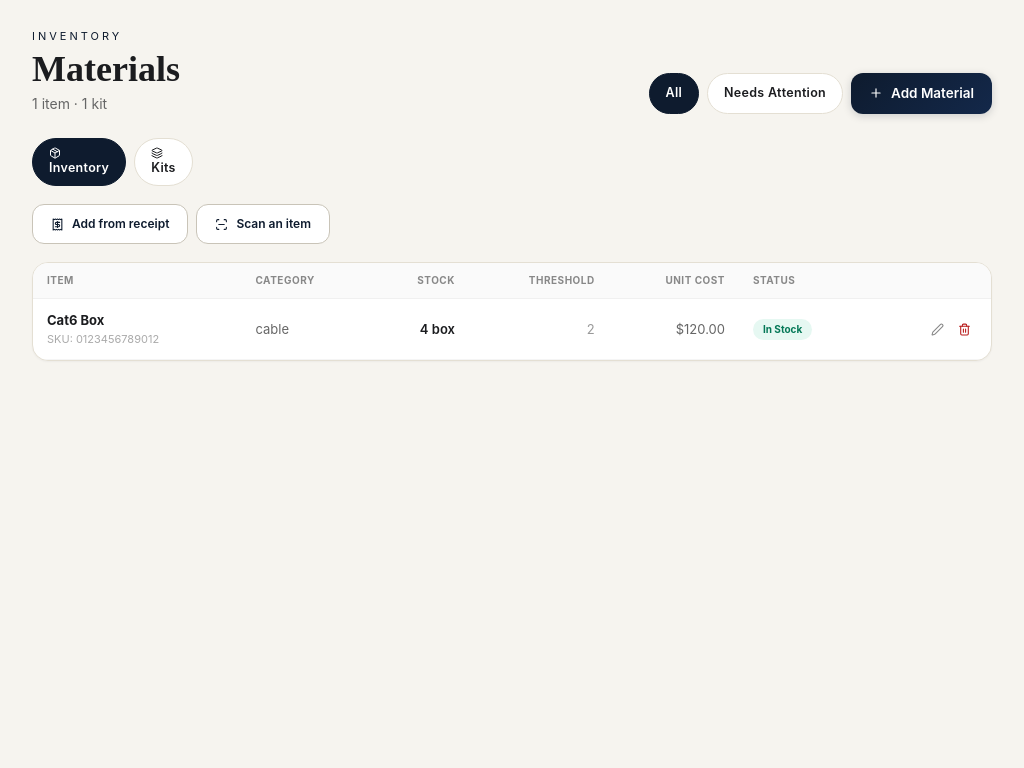
Test: getting a receipt in › accepts a screenshot or a saved PDF, not just the camera
The width and height of the screenshot is (1024, 768).
Click the button "Add from receipt" at (110, 224), box [32,204,188,244]
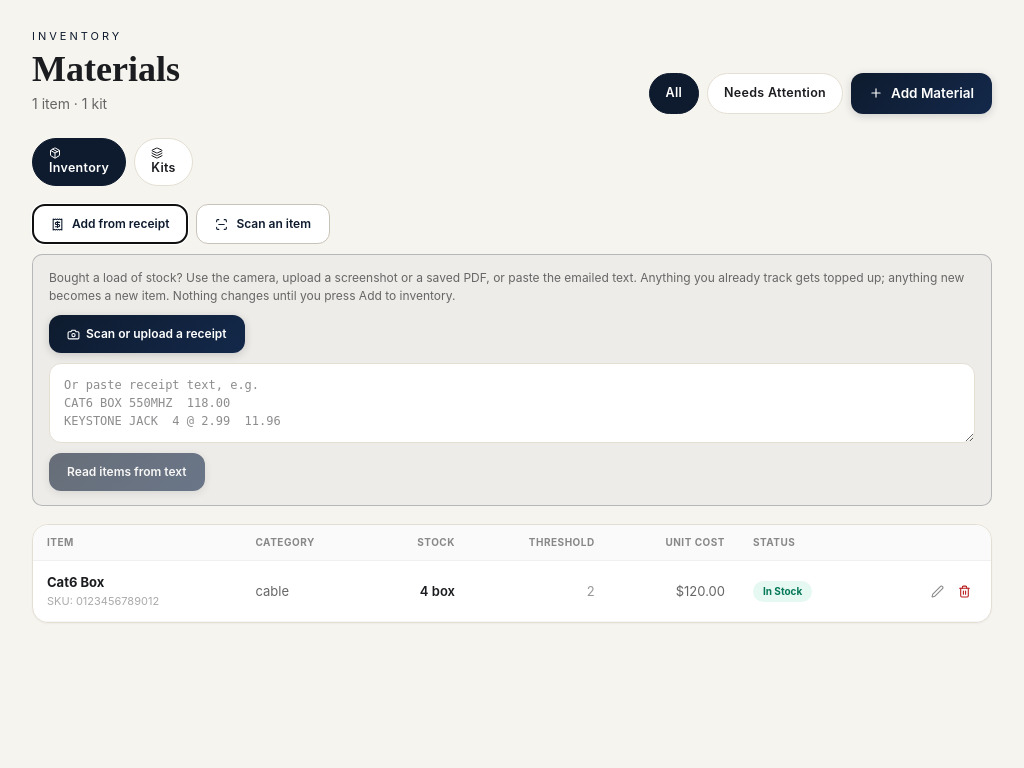
Now the file field labelled "Scan or upload a receipt" is shown, box [49,315,244,353]
